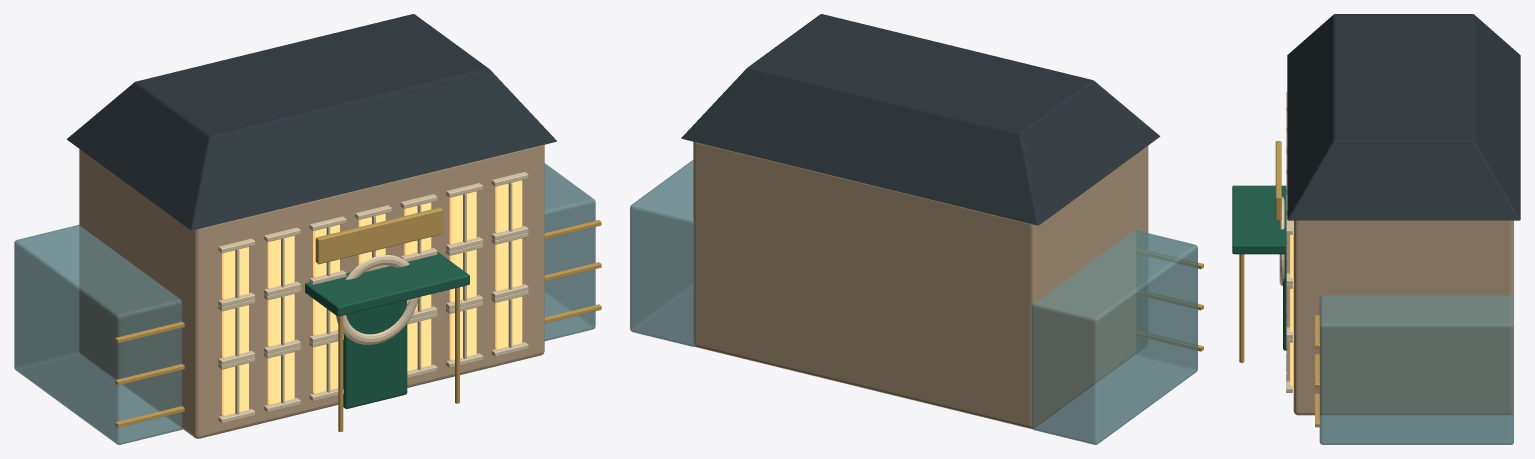
File: paris-restaurant.glb
3 views of the same model, side by side, from view 1: azimuth 30°, elevation 25°; view 2: azimuth 150°, elevation 25°; view 3: azimuth 270°, elevation 25° (orthographic). The views are drawn at different scales.
Parts seen in each view (by area): view 1: Optimized Paris landmark; view 2: Optimized Paris landmark; view 3: Optimized Paris landmark.
Part boxes in pixels (bbox=[...]): Optimized Paris landmark: bbox=[14, 14, 601, 444]; Optimized Paris landmark: bbox=[630, 14, 1203, 444]; Optimized Paris landmark: bbox=[1232, 14, 1520, 444].
Size of the model in its own units: 12.02 by 6.65 by 6.67.
